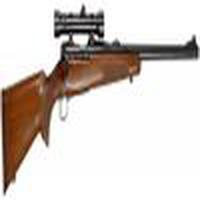gun: (2, 5, 199, 188)
